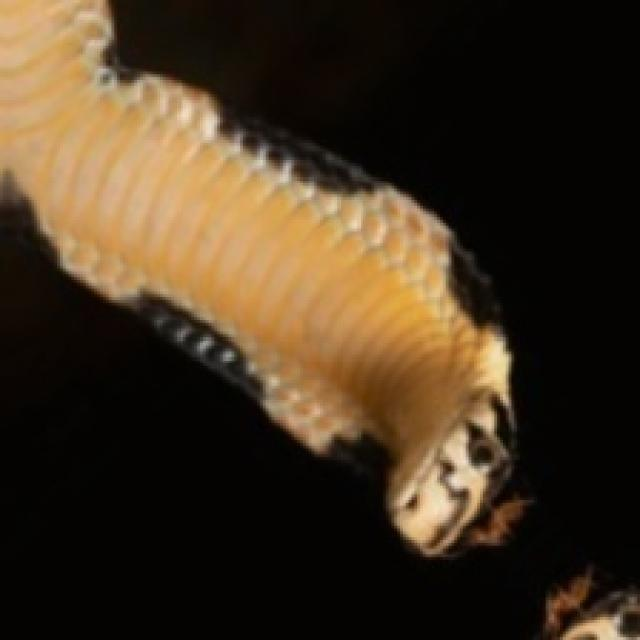king cobra: (0, 180, 637, 637), (0, 0, 511, 554), (0, 0, 506, 549), (560, 146, 623, 237)
